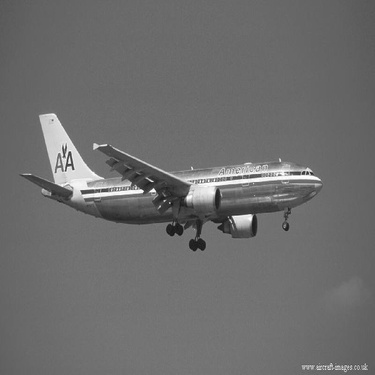airplane: (16, 100, 330, 261)
